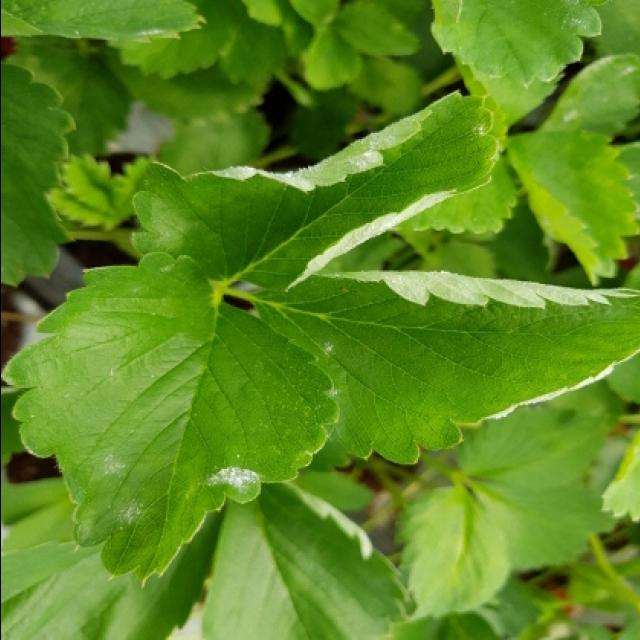Powdery Mildew Leaf: (2, 250, 337, 590), (250, 269, 640, 475), (130, 88, 500, 294), (204, 481, 409, 638), (2, 0, 207, 43), (542, 52, 640, 141)
